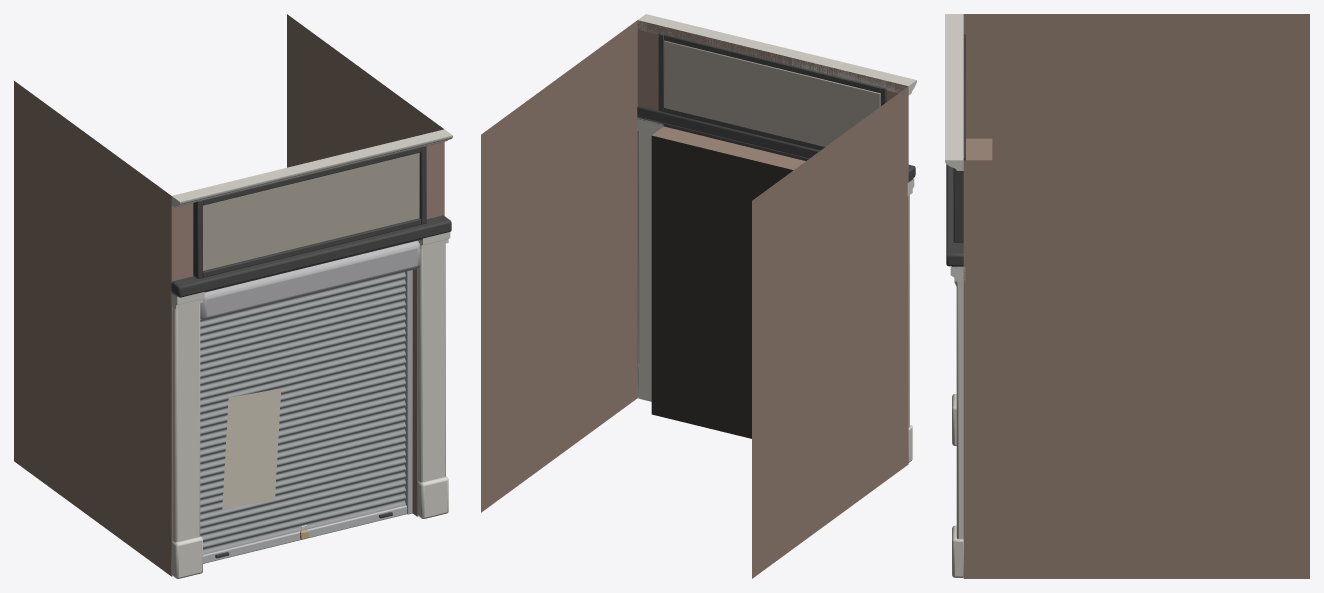
Rendered from shuttered_3a.glb.
The picture shows the model from 3 angles, left to right: view 1: azimuth 30°, elevation 25°; view 2: azimuth 150°, elevation 25°; view 3: azimuth 270°, elevation 25°; orthographic projection. The views are drawn at different scales.
Visible parts, largest first — view 1: shuttered_3a; view 2: shuttered_3a; view 3: shuttered_3a.
Part boxes in pixels (box(x1,y1,x2,y2)): shuttered_3a: box(14, 14, 452, 578); shuttered_3a: box(481, 14, 916, 578); shuttered_3a: box(945, 14, 1309, 578).
Size of the model in its own units: 3 by 4 by 3.16.
